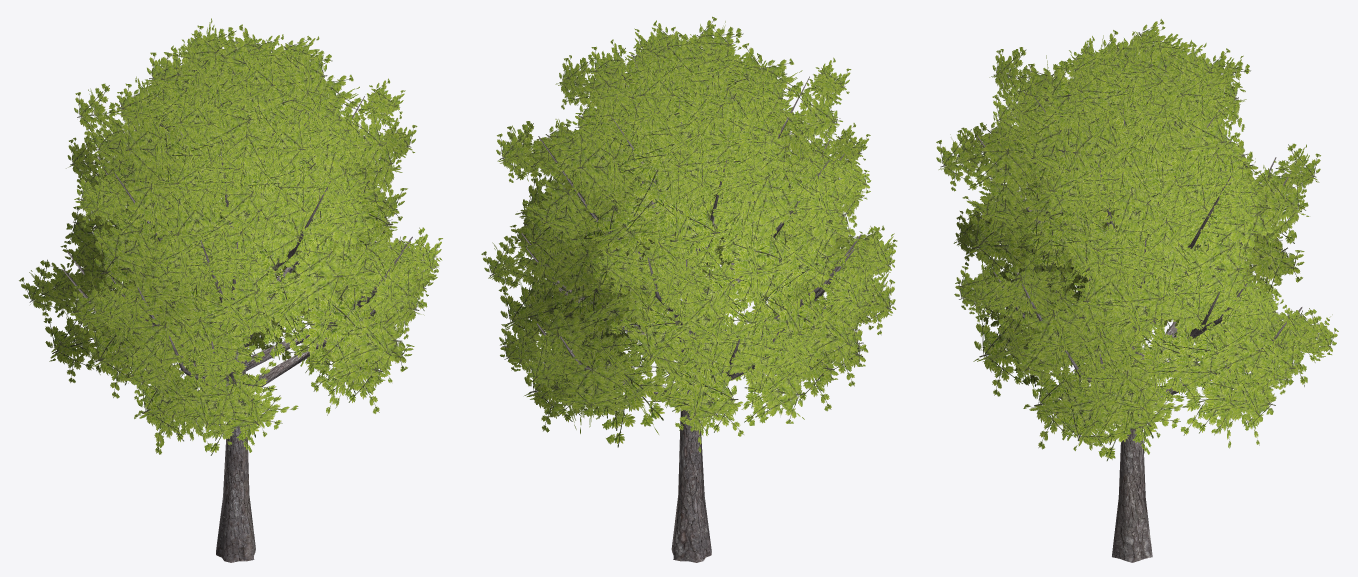
File: arbol_igor_2.obj
3 views of the same model, side by side, from view 1: azimuth 30°, elevation 25°; view 2: azimuth 150°, elevation 25°; view 3: azimuth 270°, elevation 25° (orthographic).
Parts seen in each view (by area): view 1: arbol_igor_2; view 2: arbol_igor_2; view 3: arbol_igor_2.
Part boxes in pixels (x1,y1,x2,y2): arbol_igor_2: [19, 18, 442, 562]; arbol_igor_2: [481, 16, 897, 562]; arbol_igor_2: [936, 19, 1338, 562].
Size of the model in its own units: 4.02 by 5.5 by 3.94.
